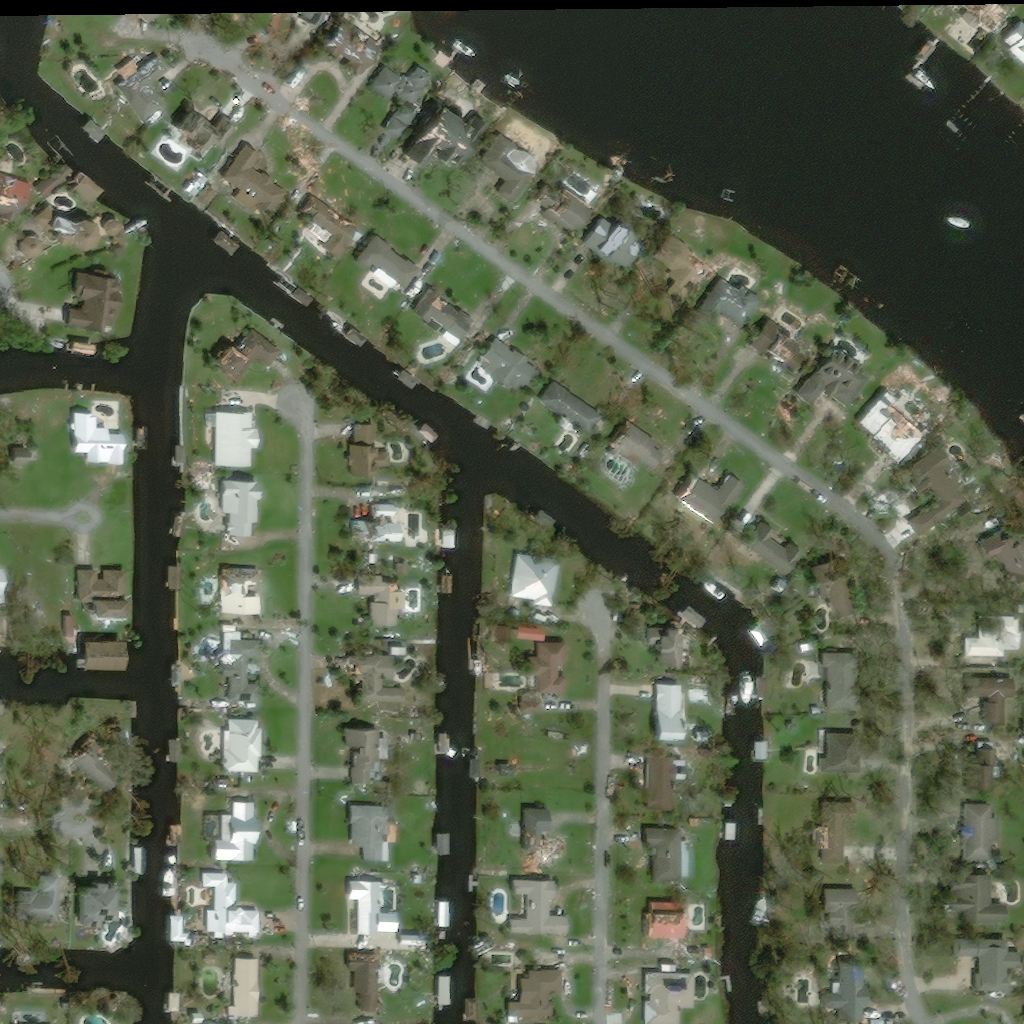major_damage: (862, 383, 940, 470), (309, 196, 376, 260), (330, 16, 392, 78), (125, 55, 178, 125), (224, 330, 290, 386), (76, 737, 135, 795), (543, 183, 606, 235), (616, 420, 674, 472), (758, 318, 816, 370), (364, 575, 415, 630), (187, 107, 243, 157), (226, 567, 271, 618), (650, 901, 700, 943), (531, 809, 573, 858), (358, 504, 411, 541), (355, 952, 388, 1011), (0, 171, 40, 219), (92, 639, 137, 672)
minor_damage: (410, 104, 499, 171), (646, 228, 727, 298), (231, 143, 298, 216), (496, 139, 555, 204), (421, 287, 484, 347), (77, 411, 138, 466), (81, 567, 141, 620), (356, 654, 417, 706), (355, 805, 407, 864), (833, 959, 878, 1024), (515, 971, 573, 1020), (716, 278, 771, 328), (652, 972, 704, 1024), (357, 422, 400, 478), (594, 218, 647, 263), (968, 804, 1007, 861), (85, 877, 129, 927), (58, 213, 110, 250), (27, 236, 51, 259), (308, 11, 341, 27)
no_damage: (914, 445, 979, 545), (378, 65, 443, 147), (803, 350, 880, 410), (209, 873, 270, 940), (750, 518, 814, 580), (363, 236, 431, 290), (546, 381, 611, 437), (71, 274, 130, 334), (820, 558, 869, 629), (518, 879, 579, 935), (961, 937, 1024, 991), (515, 553, 571, 611), (214, 411, 269, 470), (222, 800, 272, 864), (490, 337, 548, 391), (689, 473, 756, 519), (226, 640, 272, 707), (960, 871, 1016, 925), (830, 651, 872, 712), (653, 829, 700, 883), (651, 756, 696, 812), (231, 480, 274, 538), (355, 878, 397, 937), (19, 874, 68, 923), (230, 720, 272, 775), (352, 728, 390, 787), (972, 615, 1024, 658), (979, 676, 1024, 724), (834, 888, 879, 935), (828, 730, 872, 777), (536, 643, 574, 697), (235, 958, 269, 1018), (665, 682, 696, 742), (655, 626, 697, 667), (975, 746, 1011, 792), (42, 162, 85, 200), (986, 530, 1024, 572), (72, 169, 114, 206), (0, 563, 22, 605), (836, 260, 867, 288), (939, 347, 967, 377), (687, 602, 717, 630), (220, 230, 250, 257), (203, 184, 230, 209), (921, 39, 947, 64), (89, 119, 115, 143), (875, 3, 903, 25), (177, 914, 198, 942), (405, 369, 428, 391), (861, 288, 884, 310), (531, 85, 555, 106), (524, 626, 555, 641), (426, 422, 448, 443), (301, 287, 322, 308), (353, 328, 376, 347), (78, 340, 105, 355), (445, 974, 460, 1000), (732, 695, 748, 719), (472, 998, 487, 1023), (443, 833, 460, 855), (19, 448, 41, 465), (0, 723, 8, 768), (446, 901, 459, 928), (111, 219, 130, 237), (176, 740, 189, 766), (764, 676, 777, 700), (176, 993, 191, 1013), (408, 933, 431, 946), (763, 741, 777, 762), (144, 427, 157, 449), (450, 529, 465, 548), (449, 575, 463, 595), (179, 665, 190, 689), (0, 856, 10, 881), (177, 826, 189, 846), (699, 947, 720, 958), (478, 759, 490, 778), (734, 825, 747, 842), (447, 733, 459, 751), (699, 677, 720, 687), (528, 766, 549, 776), (508, 626, 518, 647), (510, 766, 524, 778), (199, 1013, 214, 1024), (731, 802, 740, 810)
